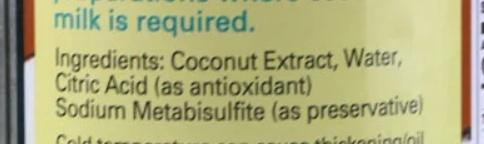ingredients: (48, 4, 440, 123)
